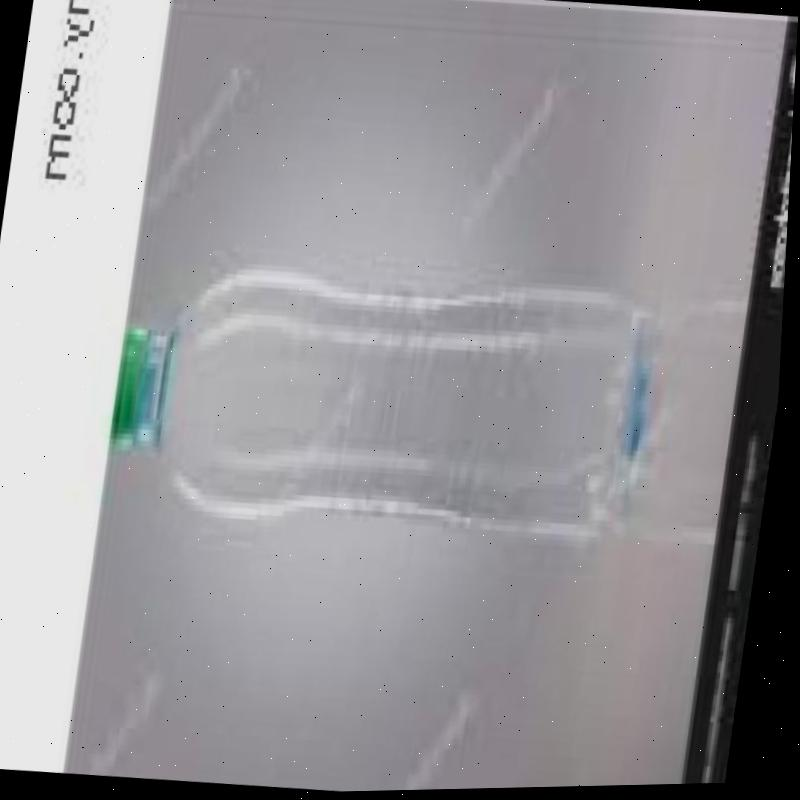botella: (108, 244, 668, 559)
